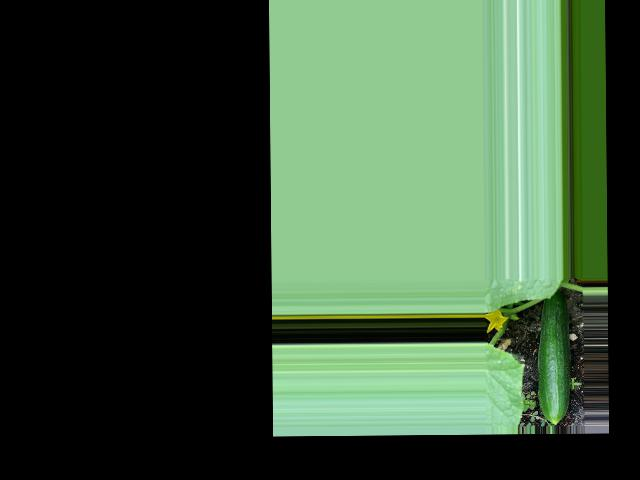cucumber: (537, 291, 571, 425)
